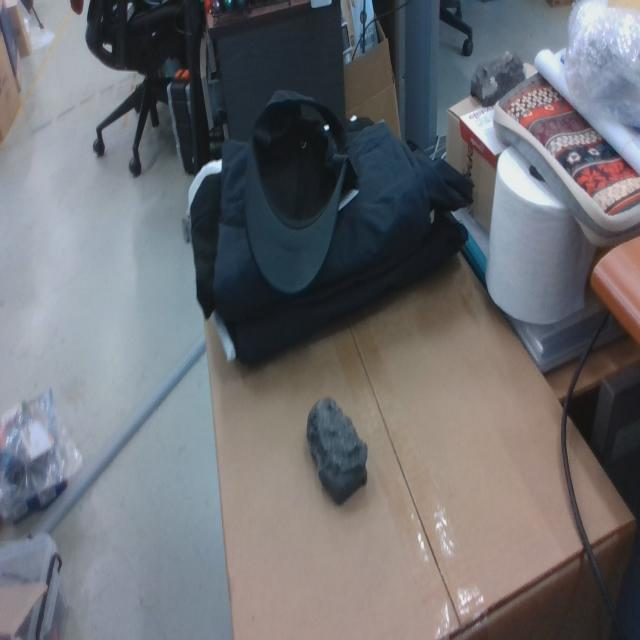stone: (306, 397, 369, 509)
